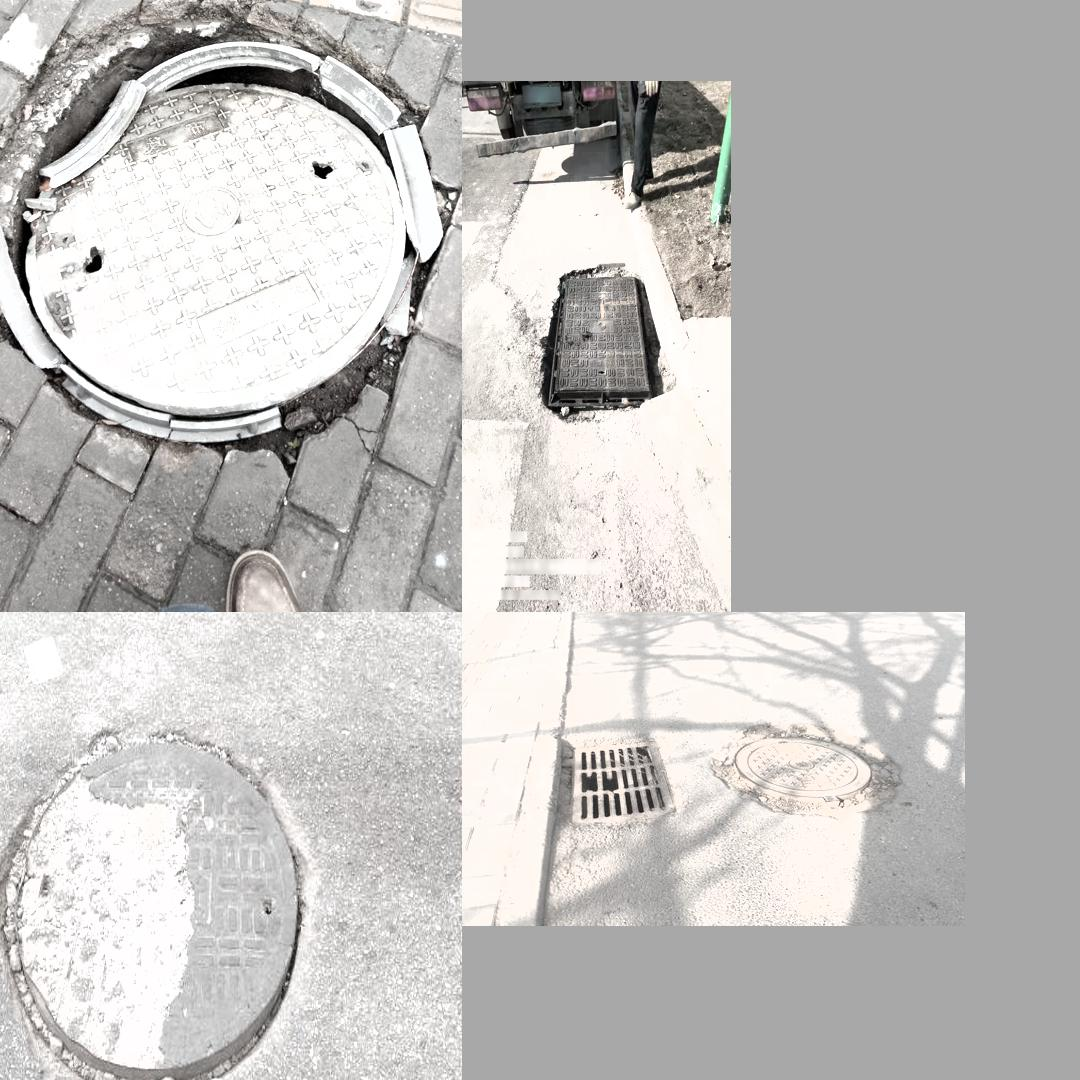circle: (0, 0, 454, 466), (0, 707, 316, 1080), (705, 714, 901, 823), (540, 269, 665, 418)
